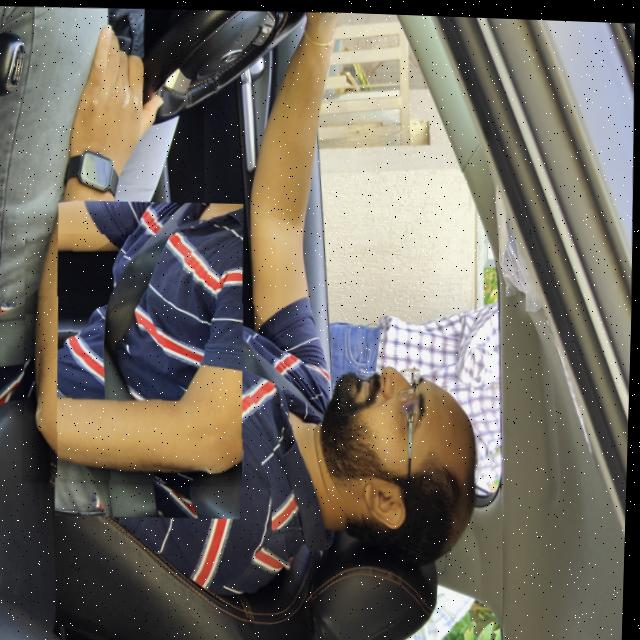seatbelt: (19, 228, 280, 489)
